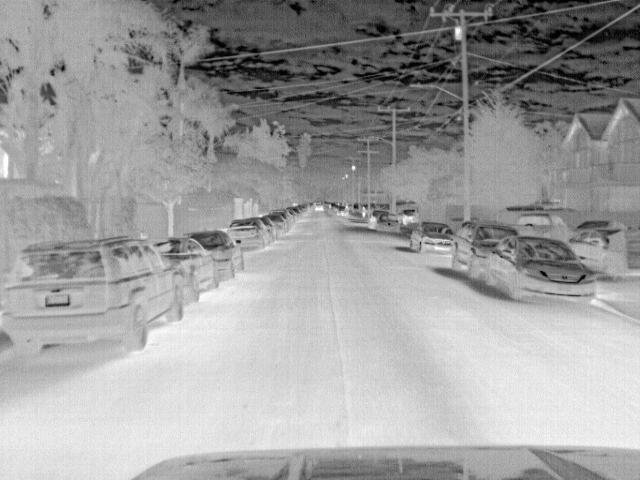car: (6, 232, 186, 356), (480, 234, 599, 305), (156, 237, 215, 303), (451, 221, 523, 274), (193, 229, 244, 279), (508, 212, 578, 242), (224, 216, 272, 246), (409, 221, 456, 251), (575, 218, 631, 232), (375, 212, 404, 232), (368, 209, 390, 230), (269, 213, 290, 232), (261, 218, 279, 240), (400, 208, 421, 225), (288, 206, 302, 220), (312, 200, 326, 211)
person: (361, 206, 369, 220), (344, 204, 351, 218)
